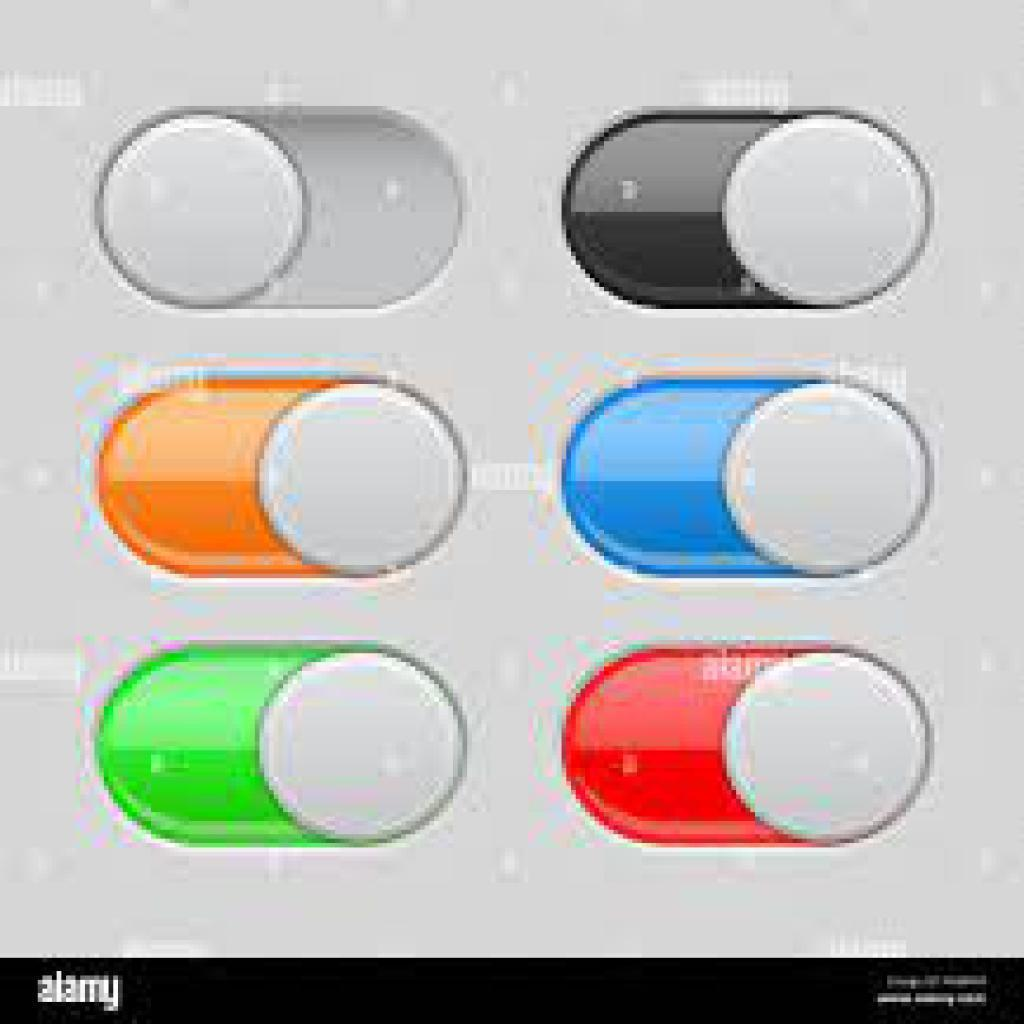switch: (556, 647, 939, 847), (97, 107, 470, 307), (563, 109, 932, 311), (93, 647, 466, 846), (561, 378, 932, 575), (97, 378, 465, 576)
